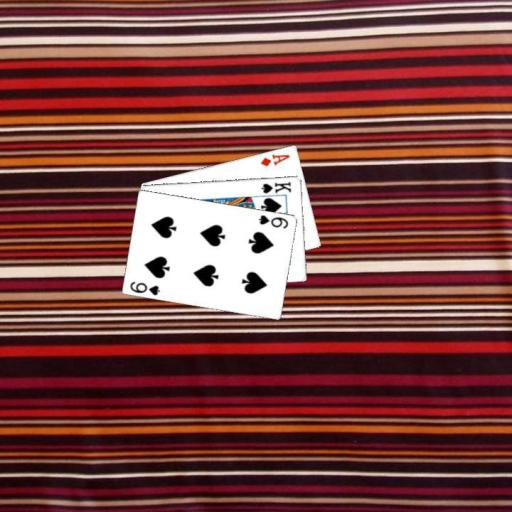6S: (256, 211, 290, 230), (128, 278, 162, 297)
AD: (258, 151, 292, 167)
KS: (258, 179, 293, 194)
